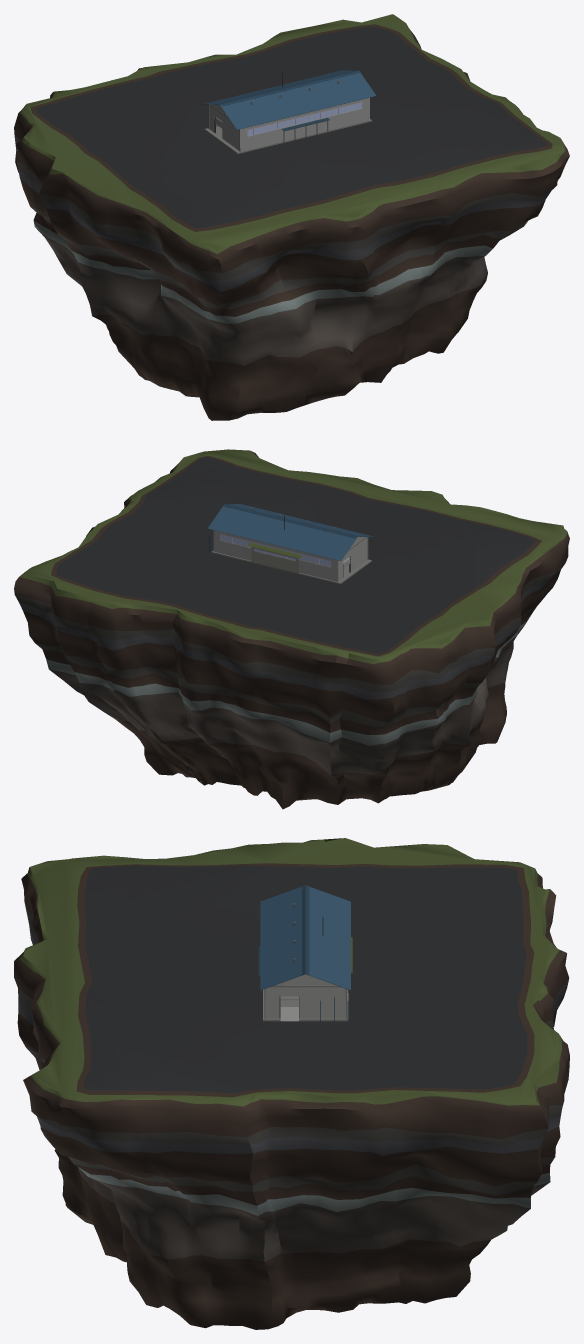
The model's file is industrial.glb.
3 views of the same model, one above another, from view 1: azimuth 30°, elevation 25°; view 2: azimuth 150°, elevation 25°; view 3: azimuth 270°, elevation 25° (orthographic). The views are drawn at different scales.
Parts seen in each view (by area): view 1: Island_mesh, Warehouse_mesh; view 2: Island_mesh, Warehouse_mesh, CanopyDouble_mesh; view 3: Island_mesh, Warehouse_mesh.
Part boxes in pixels (x1,y1,x2,y2): Island_mesh: (14, 14, 569, 420); Warehouse_mesh: (202, 70, 376, 154); Island_mesh: (14, 449, 569, 809); Warehouse_mesh: (207, 504, 373, 584); CanopyDouble_mesh: (247, 542, 302, 572); Island_mesh: (14, 838, 569, 1329); Warehouse_mesh: (260, 885, 350, 1022).
Size of the model in its own units: 166 by 97.05 by 143.
Materials: 7 (6 with a texture image).
